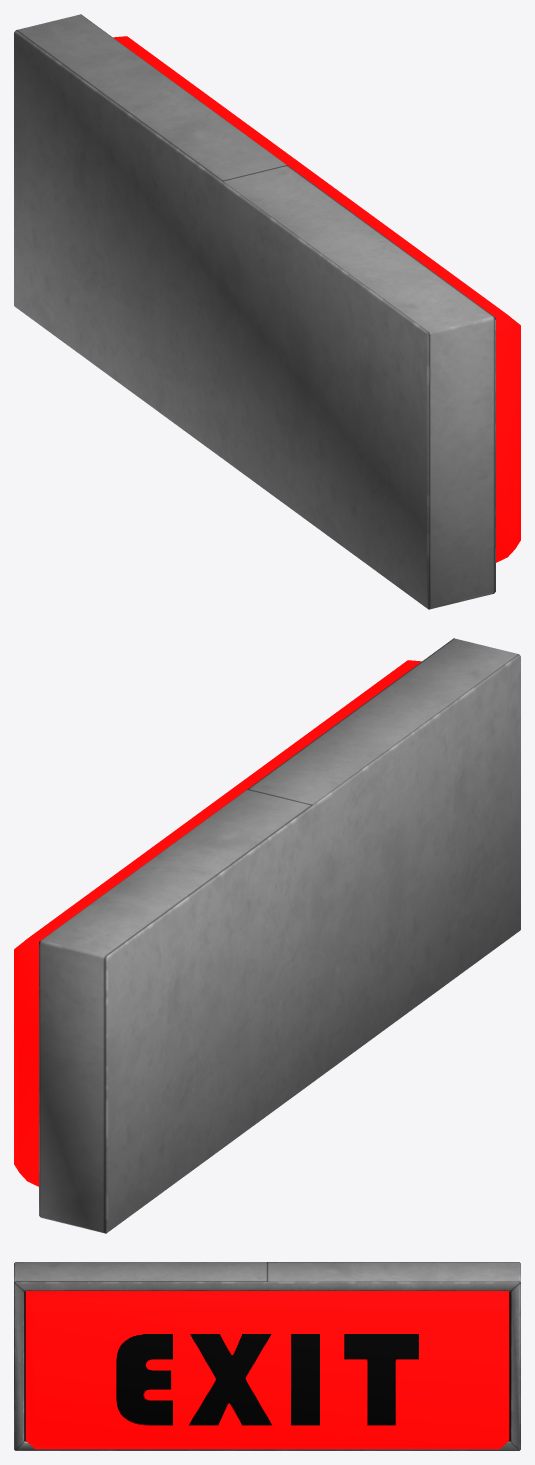
The model's file is exit_sign_button__low_poly_3d_game_prop.glb.
3 renders of one model, top to bottom at view 1: azimuth 30°, elevation 25°; view 2: azimuth 150°, elevation 25°; view 3: azimuth 270°, elevation 25°, orthographic. The views are drawn at different scales.
Parts seen in each view (by area): view 1: Holder_low, Button_low; view 2: Holder_low, Button_low; view 3: Button_low, Holder_low.
Part boxes in pixels (x1=…): Holder_low: x1=14, y1=14, x2=495, y2=609; Button_low: x1=113, y1=36, x2=520, y2=562; Holder_low: x1=39, y1=638, x2=520, y2=1233; Button_low: x1=14, y1=660, x2=421, y2=1186; Button_low: x1=25, y1=1291, x2=509, y2=1449; Holder_low: x1=14, y1=1262, x2=520, y2=1450.
Bounding box in the file's own units: 0.832 × 2 × 5.42.
Materials: 1 (1 with a texture image).
